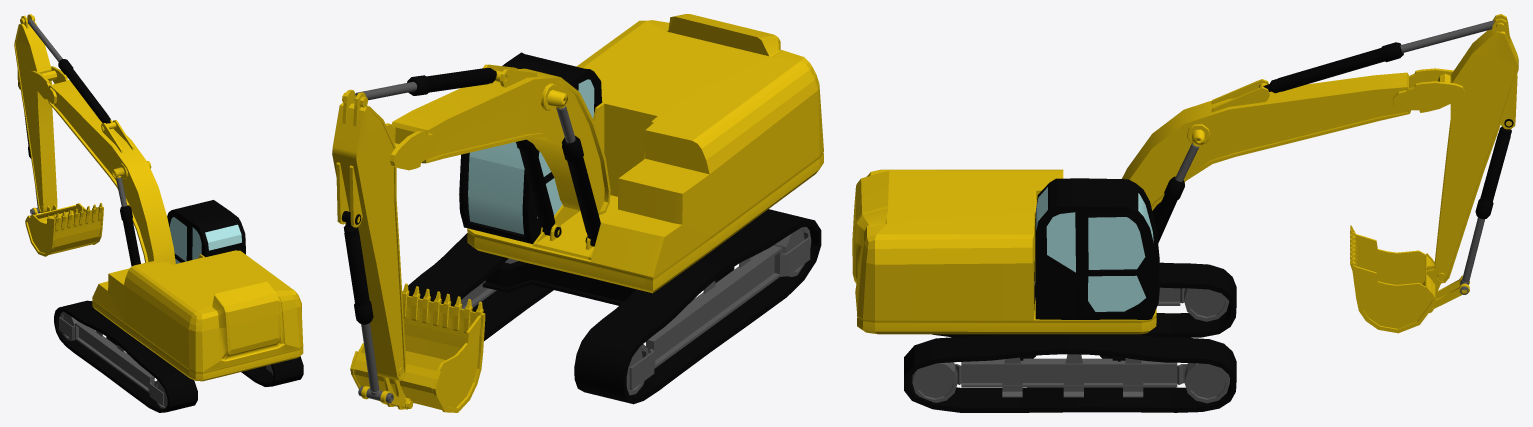
Rendered from pala_Komatsu.fbx.
3 renders of one model, left to right at view 1: azimuth 30°, elevation 25°; view 2: azimuth 150°, elevation 25°; view 3: azimuth 270°, elevation 25°, orthographic. The views are drawn at different scales.
Parts seen in each view (by area): view 1: grupo17, grupo14, pCube1, grupo05, polySurface1909, grupo9, pCube8, pCube2, pPlane2, polySurface211, grupo11, polySurface1904; view 2: grupo17, pCube1, grupo14, grupo05, polySurface1909, grupo9, pCube8, pCube2, grupo18, grupo11, grupo10, grupo4 (+6 smaller); view 3: grupo17, grupo14, pCube2, grupo9, grupo05, pCube9, polySurface1909, pPlane1, pCube1, polySurface211, pCube8, grupo4 (+2 smaller).
Boxes of the visible parts, left/top/right/bottom form: grupo17: left=92, top=250, right=303, bottom=381; grupo14: left=29, top=66, right=175, bottom=264; pCube1: left=54, top=300, right=197, bottom=412; grupo05: left=14, top=14, right=57, bottom=213; polySurface1909: left=25, top=202, right=103, bottom=256; grupo9: left=167, top=200, right=245, bottom=262; pCube8: left=59, top=311, right=167, bottom=408; pCube2: left=241, top=356, right=303, bottom=386; pPlane2: left=169, top=217, right=201, bottom=263; polySurface211: left=58, top=59, right=110, bottom=123; grupo11: left=120, top=205, right=140, bottom=266; polySurface1904: left=28, top=19, right=62, bottom=61; grupo17: left=467, top=14, right=823, bottom=293; pCube1: left=574, top=209, right=821, bottom=404; grupo14: left=385, top=64, right=610, bottom=215; grupo05: left=332, top=89, right=406, bottom=380; polySurface1909: left=350, top=283, right=485, bottom=412; grupo9: left=459, top=52, right=601, bottom=244; pCube8: left=626, top=227, right=811, bottom=395; pCube2: left=408, top=233, right=553, bottom=340; grupo18: left=482, top=261, right=734, bottom=305; grupo11: left=562, top=136, right=600, bottom=249; grupo10: left=516, top=139, right=561, bottom=240; grupo4: left=342, top=211, right=373, bottom=324; grupo17: left=852, top=169, right=1156, bottom=334; grupo14: left=1122, top=68, right=1464, bottom=210; pCube2: left=904, top=334, right=1236, bottom=412; grupo9: left=1035, top=178, right=1159, bottom=319; grupo05: left=1434, top=14, right=1518, bottom=283; pCube9: left=912, top=354, right=1229, bottom=403; polySurface1909: left=1350, top=225, right=1445, bottom=333; pPlane1: left=1046, top=212, right=1146, bottom=311; pCube1: left=932, top=261, right=1236, bottom=337; polySurface211: left=1263, top=42, right=1403, bottom=93; pCube8: left=1034, top=281, right=1229, bottom=321; grupo4: left=1475, top=119, right=1513, bottom=219.
Bounding box in the file's own units: 264 × 451 × 785.
